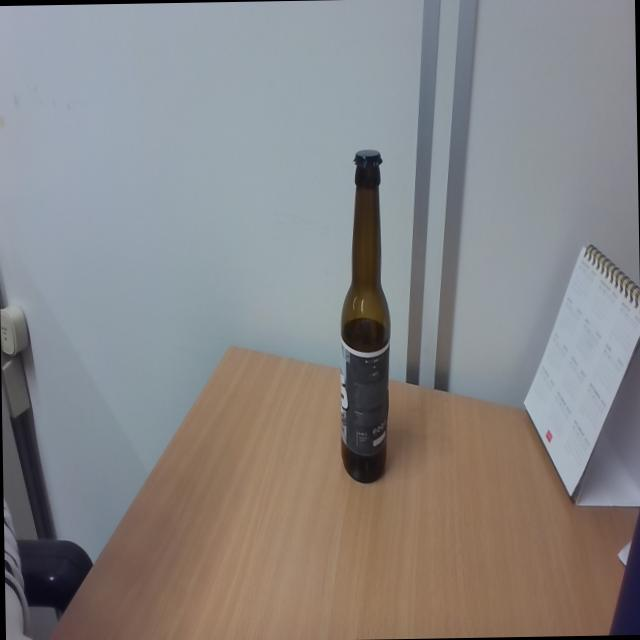Bottle: (336, 144, 392, 486)
Cap: (350, 146, 383, 172)
Label: (340, 342, 390, 458)
